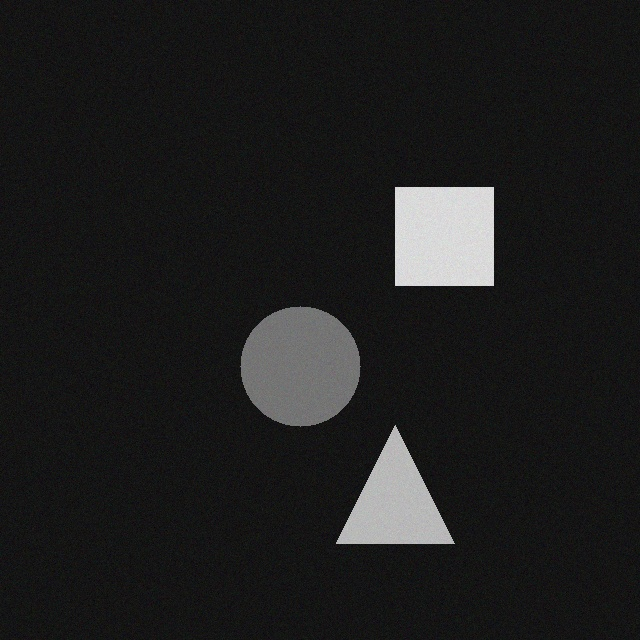circle: (230, 307, 350, 427)
square: (385, 188, 483, 286)
triangle: (326, 426, 444, 544)
